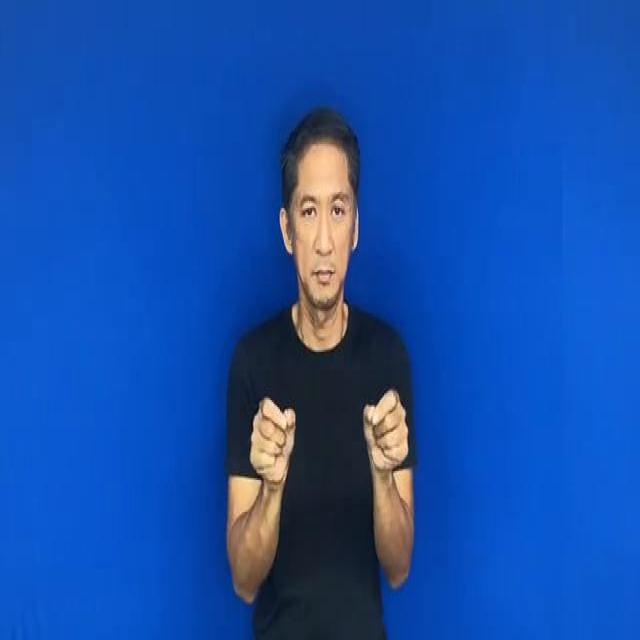crab: (242, 379, 304, 498), (353, 383, 417, 482)
